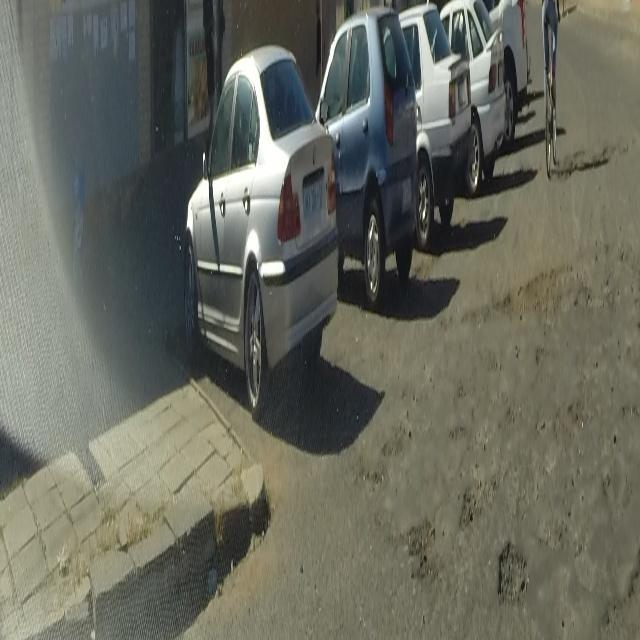pothole: (494, 262, 574, 342), (402, 507, 438, 592), (495, 529, 528, 602), (457, 474, 488, 532)
